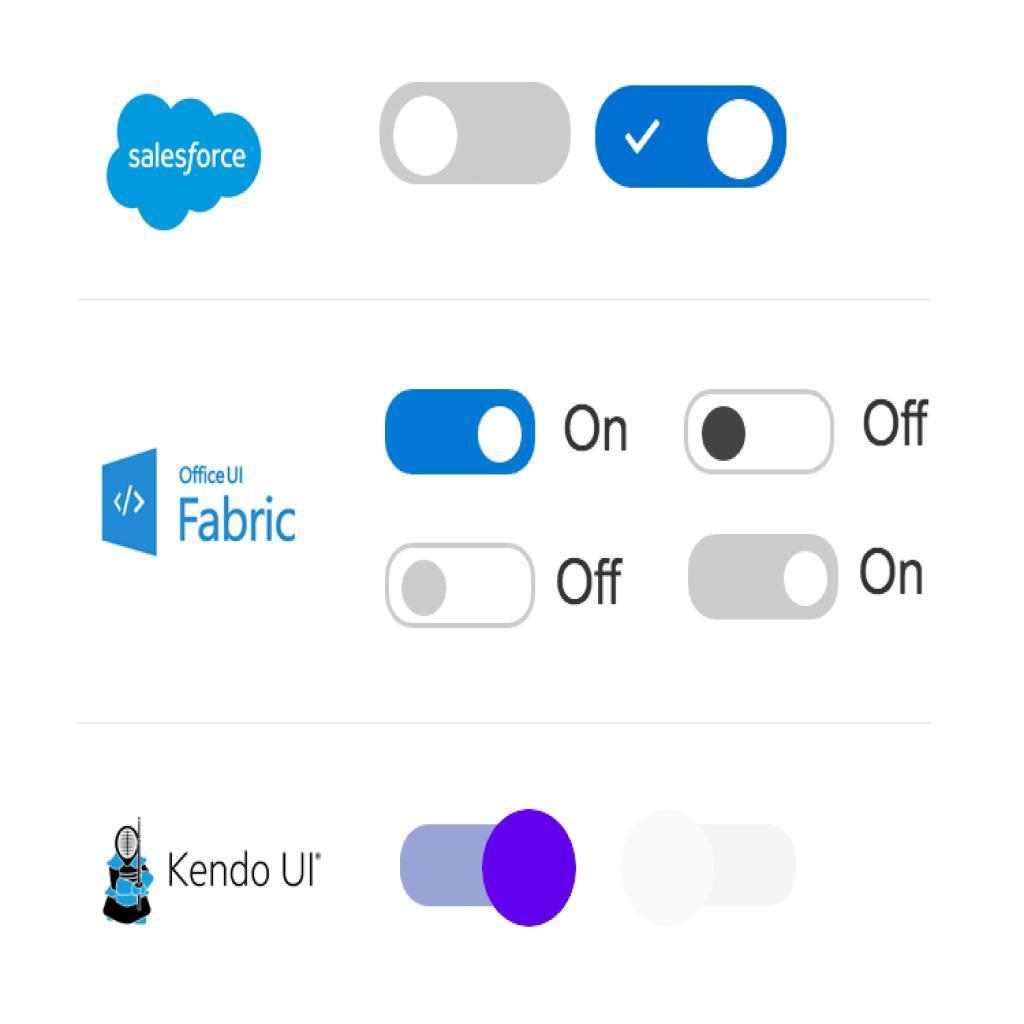switch: (617, 814, 800, 930), (594, 85, 788, 193), (401, 809, 575, 924), (381, 84, 570, 185), (684, 389, 835, 474), (690, 537, 839, 622), (390, 543, 537, 629), (388, 393, 537, 475)
